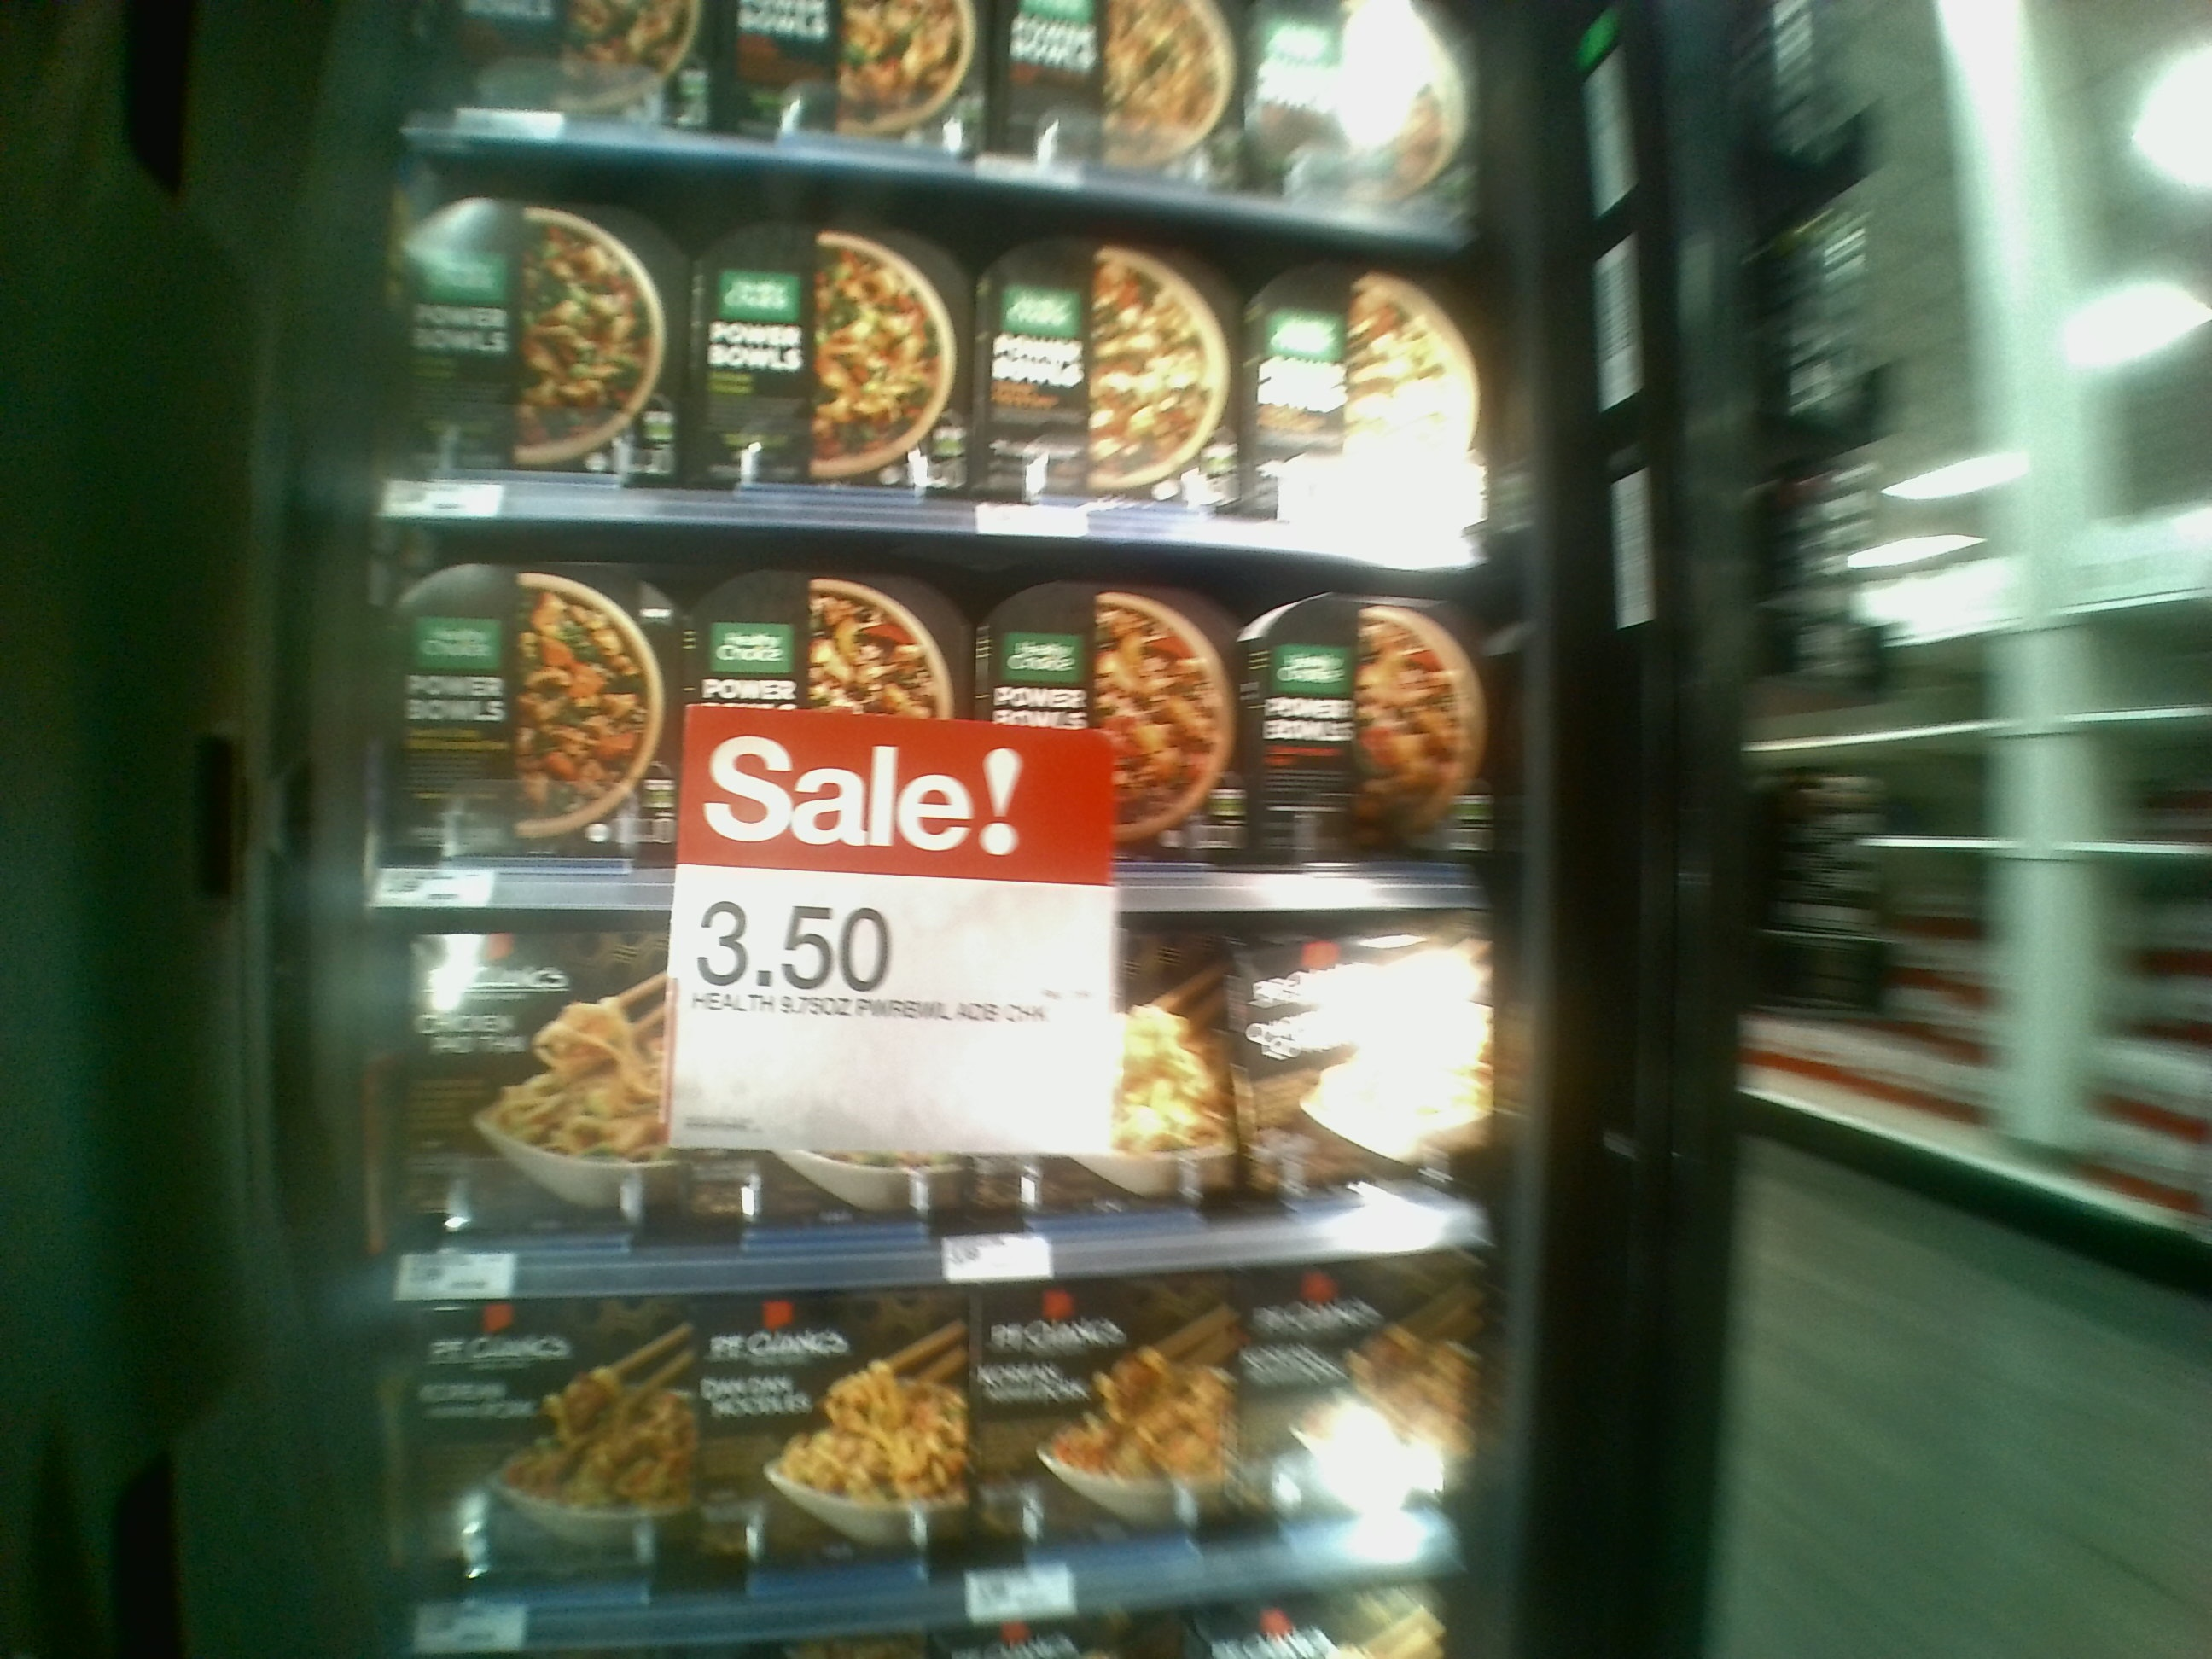shelf: (366, 512, 1524, 908), (368, 910, 1512, 1291)
